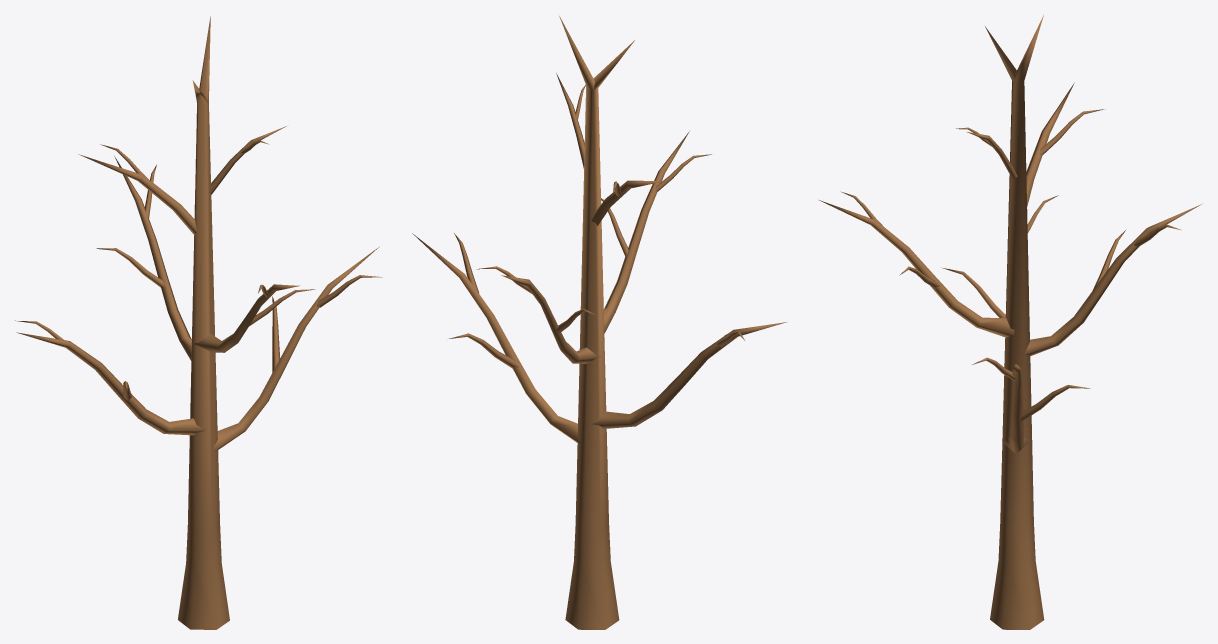
The model's file is Trunk_WoodBranching_Small.fbx.
3 views of the same model, side by side, from view 1: azimuth 30°, elevation 25°; view 2: azimuth 150°, elevation 25°; view 3: azimuth 270°, elevation 25° (orthographic). The views are drawn at different scales.
Parts seen in each view (by area): view 1: Trunk_WoodBranching_Small; view 2: Trunk_WoodBranching_Small; view 3: Trunk_WoodBranching_Small.
Boxes of the visible parts, x1,y1,x2,y2 form: Trunk_WoodBranching_Small: (15,16,382,629); Trunk_WoodBranching_Small: (412,16,786,629); Trunk_WoodBranching_Small: (819,15,1201,629).
Bounding box in the file's own units: 409 × 719 × 465.
1 material, 1 textured.
